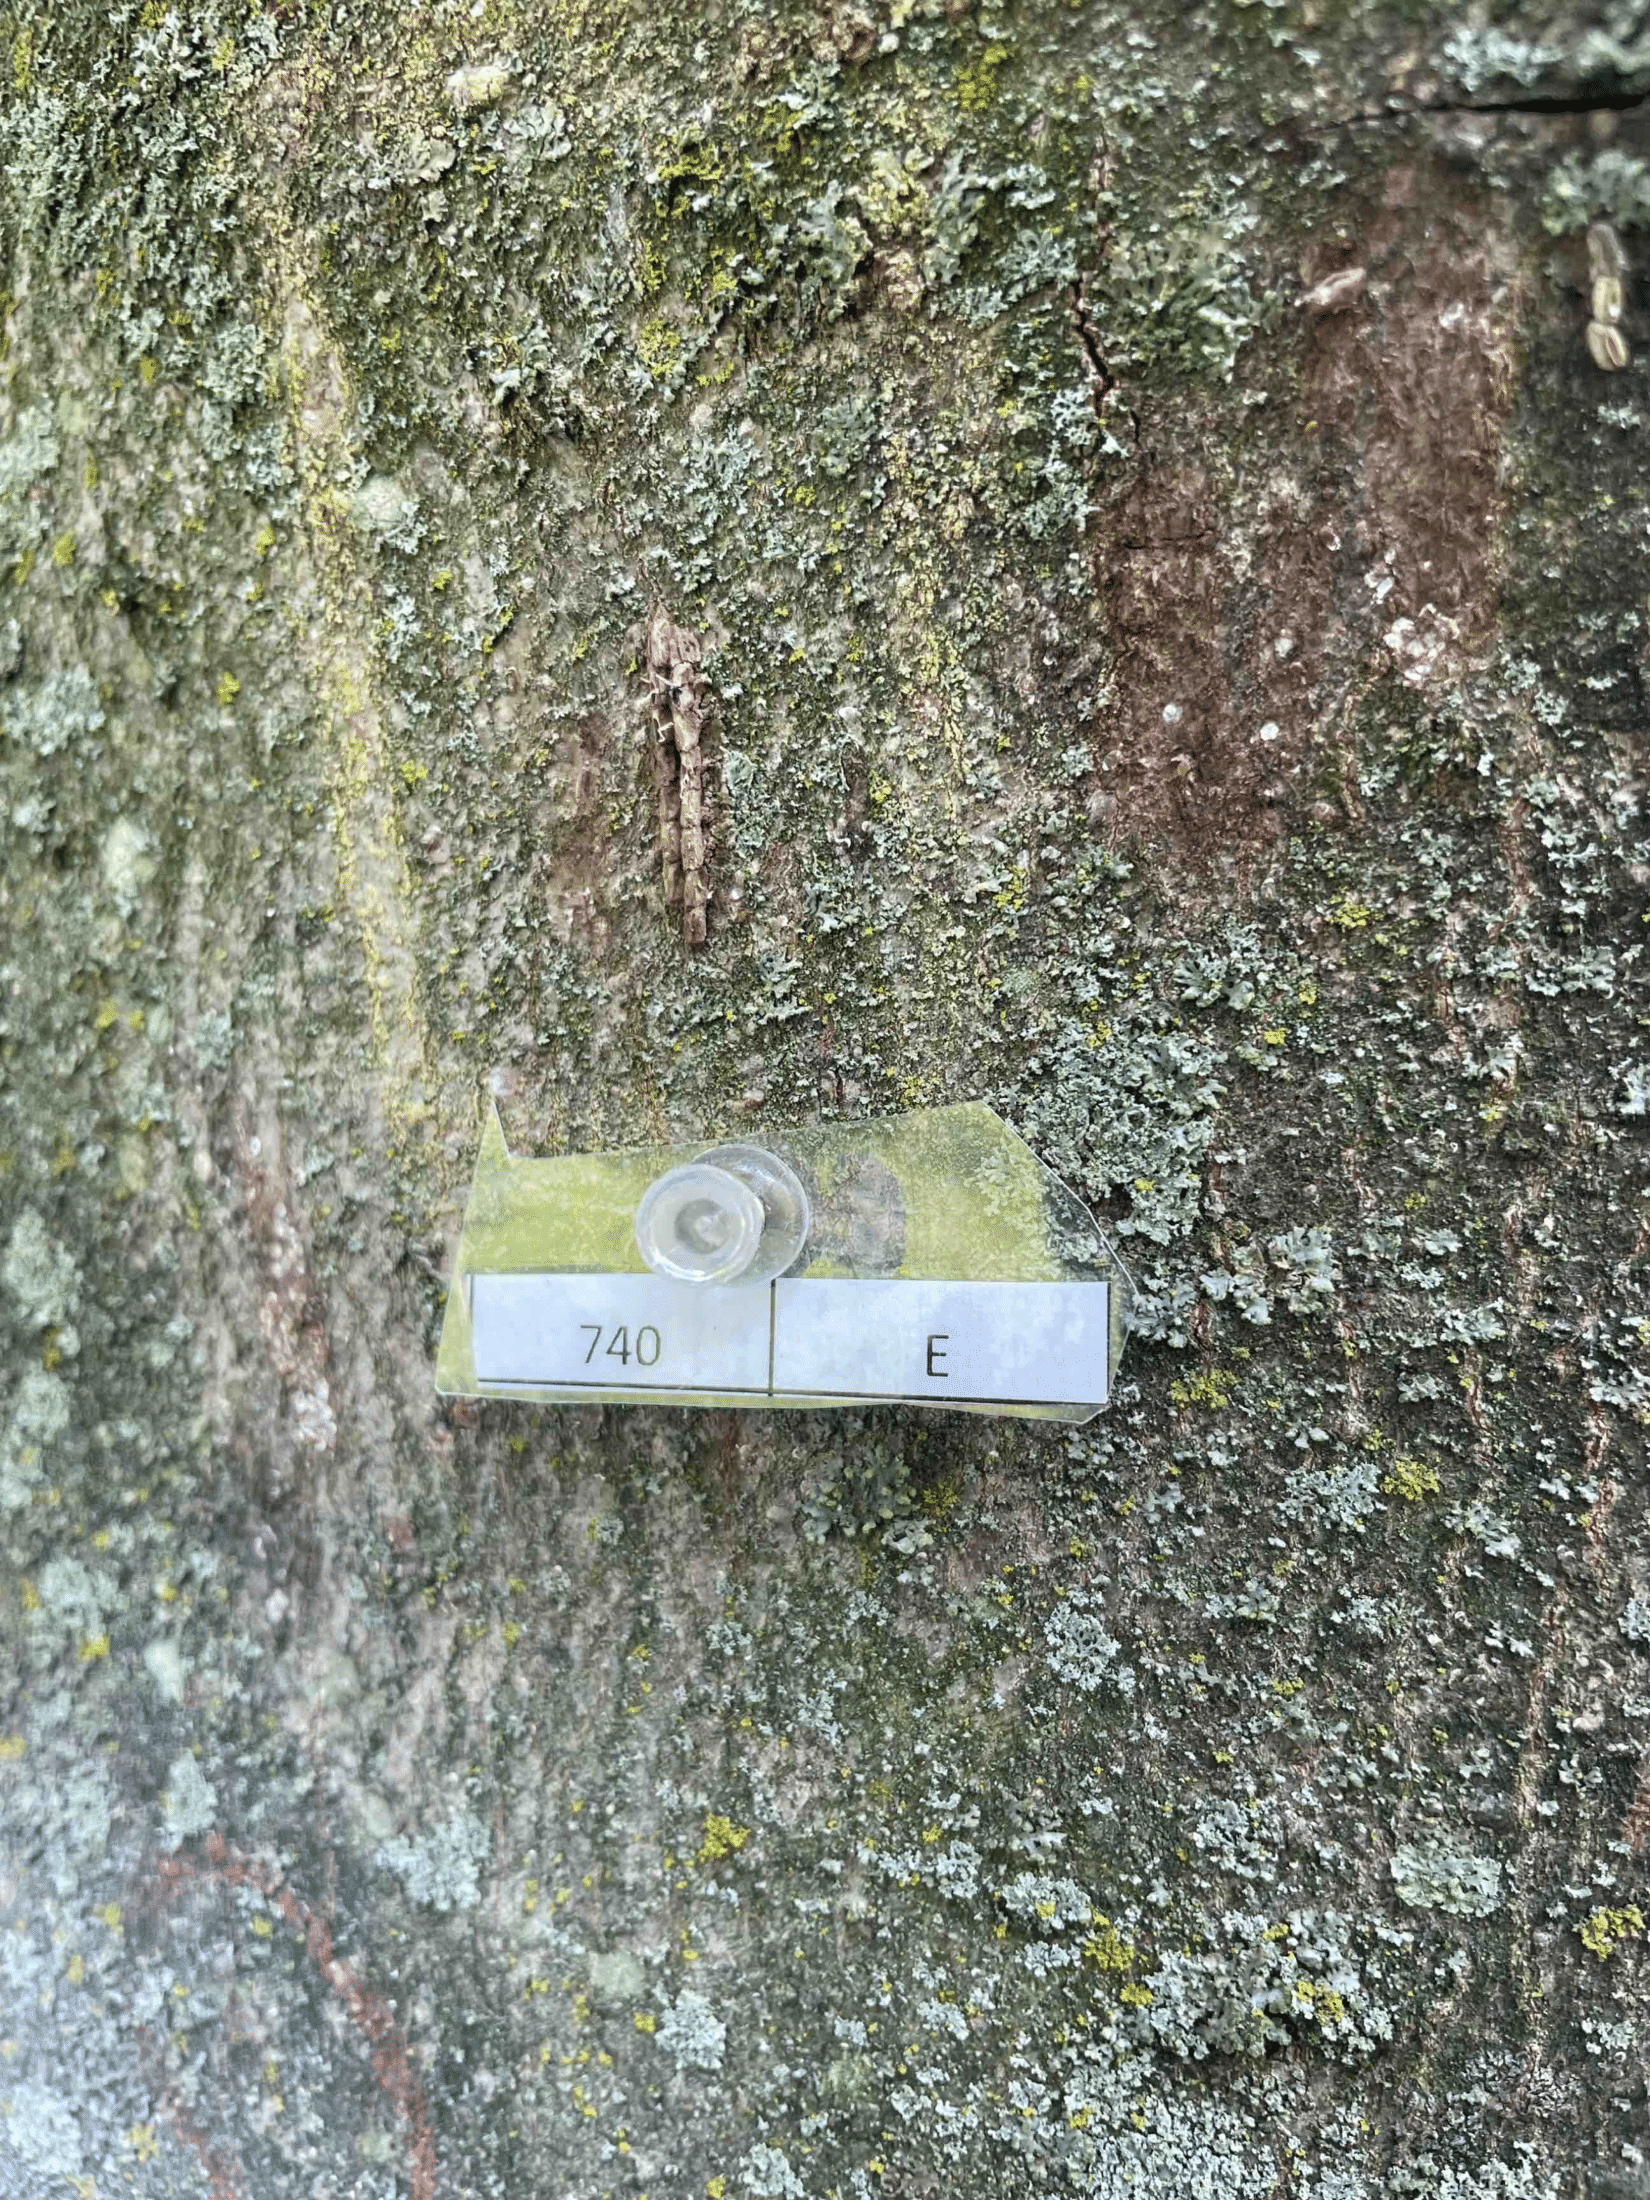egg masses: (607, 579, 749, 960)
